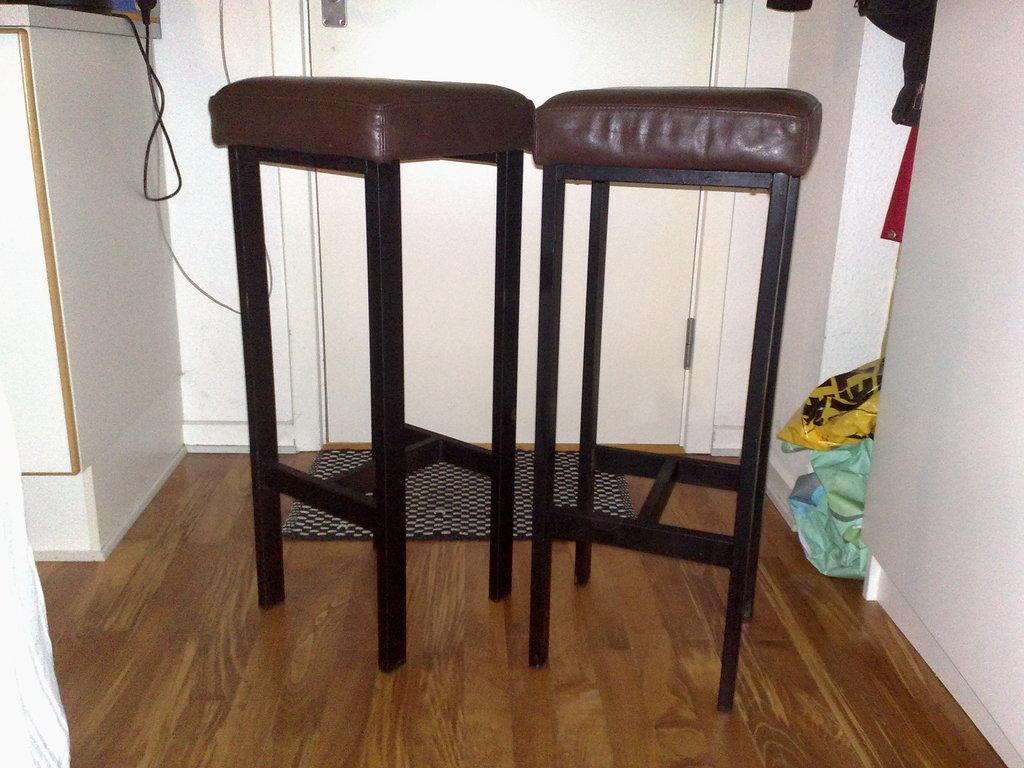Chair: (531, 88, 823, 722)
